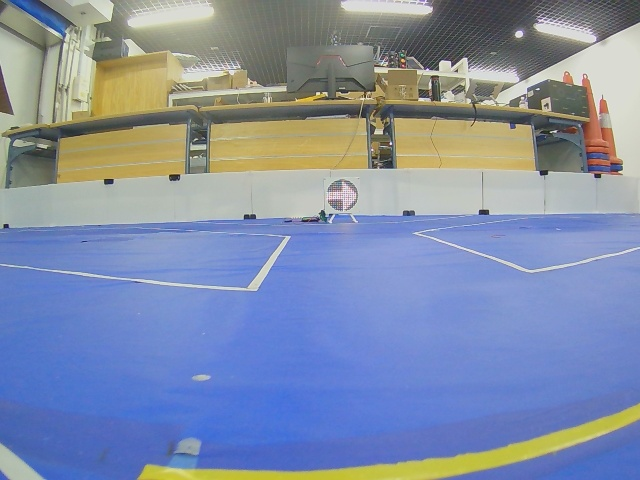right_yellow: (326, 179, 359, 212)
